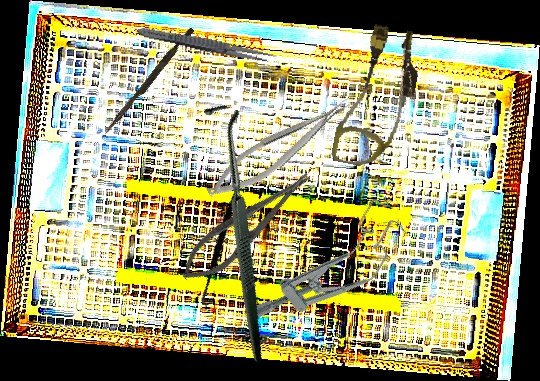Cannula: (330, 20, 426, 174)
Dressing Forceps: (134, 23, 278, 66)
Hook Surgical: (126, 99, 344, 364)
Needle Holder: (171, 159, 322, 294), (198, 90, 362, 208)
Pusher: (103, 25, 195, 138)
Spatula Surgical: (168, 168, 277, 311)
Speculum: (239, 192, 421, 351)
